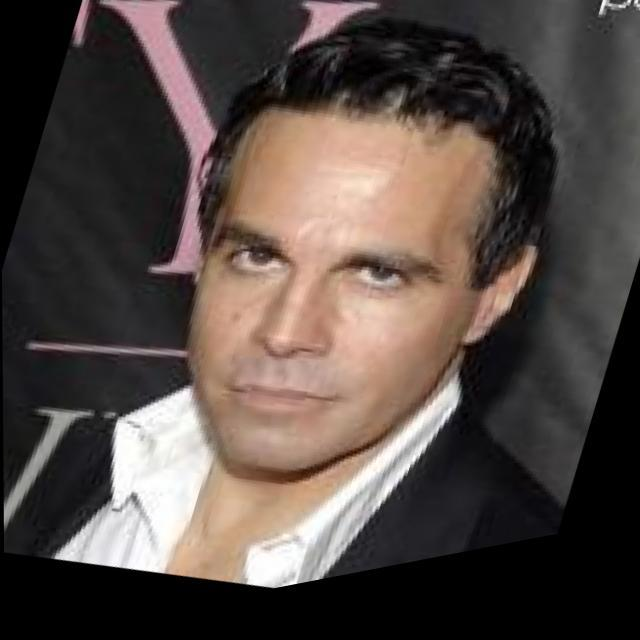Nonhelmet: (172, 13, 561, 479)
